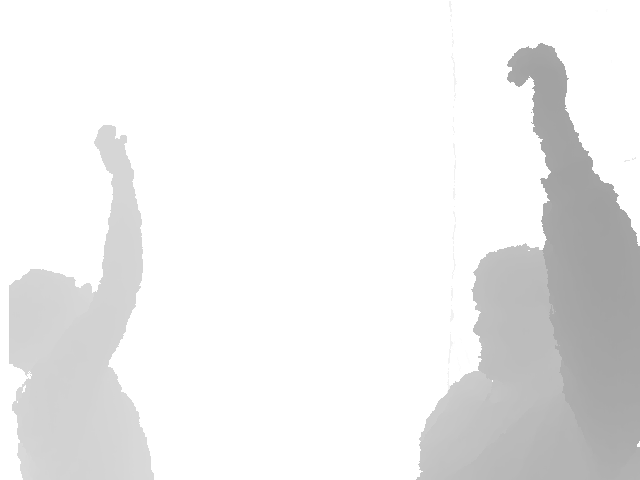hand: (506, 43, 578, 143), (95, 125, 135, 185)
head: (472, 245, 561, 386), (8, 267, 105, 375)
person: (412, 43, 640, 480), (9, 125, 156, 480)
